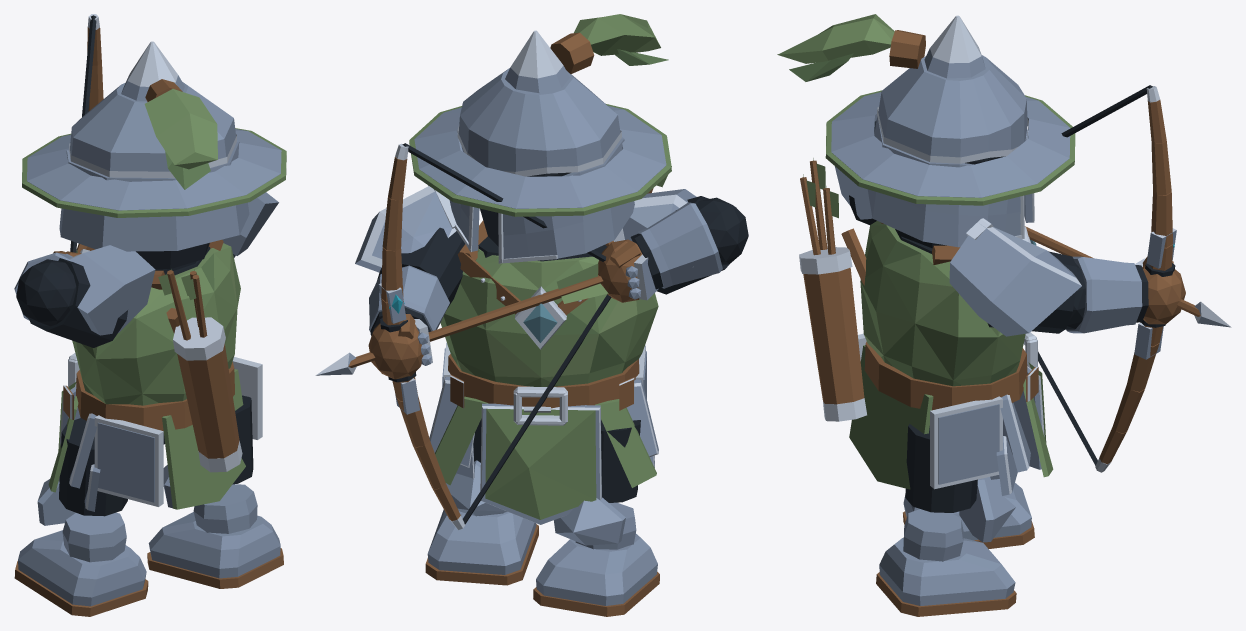
The model's file is warrior_archer.glb.
3 renders of one model, left to right at view 1: azimuth 30°, elevation 25°; view 2: azimuth 150°, elevation 25°; view 3: azimuth 270°, elevation 25°, orthographic. The views are drawn at different scales.
Parts seen in each view (by area): view 1: Body, Head, Leg.L, Leg.R, Arm.L, Bow, Arm.R; view 2: Body, Head, Leg.L, Arm.L, Arm.R, Bow, Leg.R, Arrow; view 3: Body, Head, Arm.R, Leg.R, Bow, Leg.L, Arrow, Arm.L.
Part boxes in pixels (x1,y1,x2,y2): Body: (48,239,262,511); Head: (22,41,286,269); Leg.L: (14,418,148,616); Leg.R: (147,395,283,588); Arm.L: (14,245,155,347); Bow: (70,14,103,252); Arm.R: (222,192,278,257); Body: (429,166,671,524); Head: (409,14,671,263); Leg.L: (533,420,659,616); Arm.L: (598,189,748,302); Arm.R: (355,185,464,379); Bow: (378,143,611,529); Leg.R: (425,418,538,585); Arrow: (315,263,608,375); Body: (799,158,1053,495); Head: (777,14,1075,247); Arm.R: (949,218,1185,336); Leg.R: (876,424,1016,616); Bow: (1038,85,1176,472); Leg.L: (903,475,1034,548); Arrow: (1025,226,1231,327); Arm.L: (834,120,876,224).
Size of the model in its own units: 0.7237 by 1.19 by 0.889.
